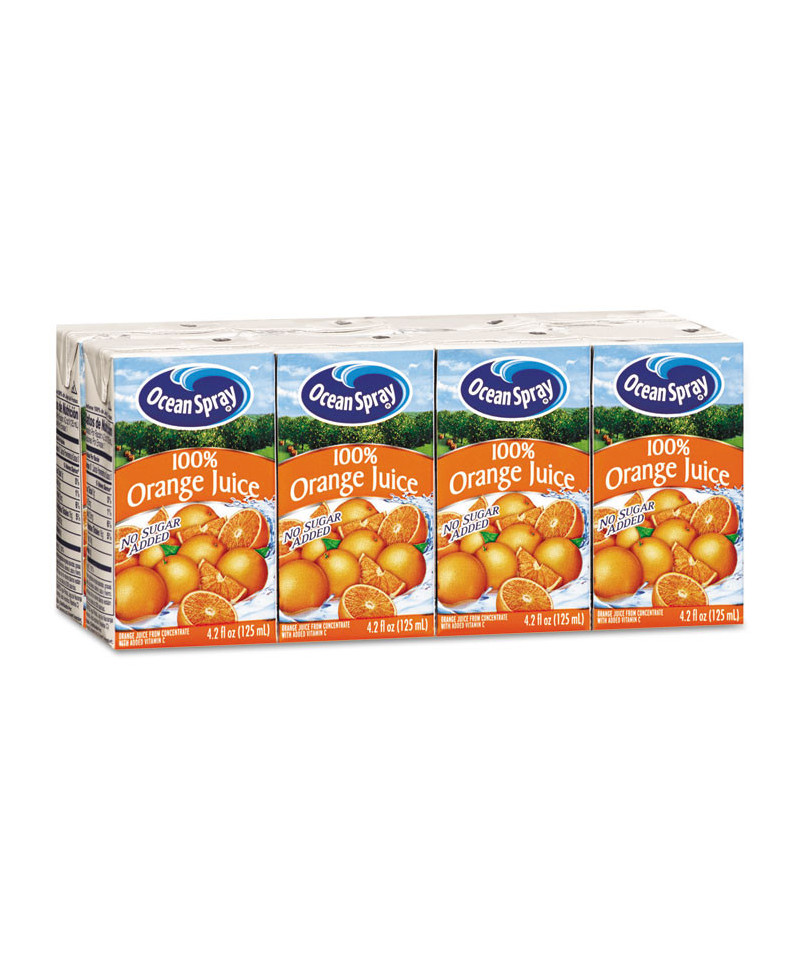Juice_Box: (80, 336, 279, 650), (397, 333, 591, 642), (243, 338, 438, 641), (566, 329, 746, 632)
